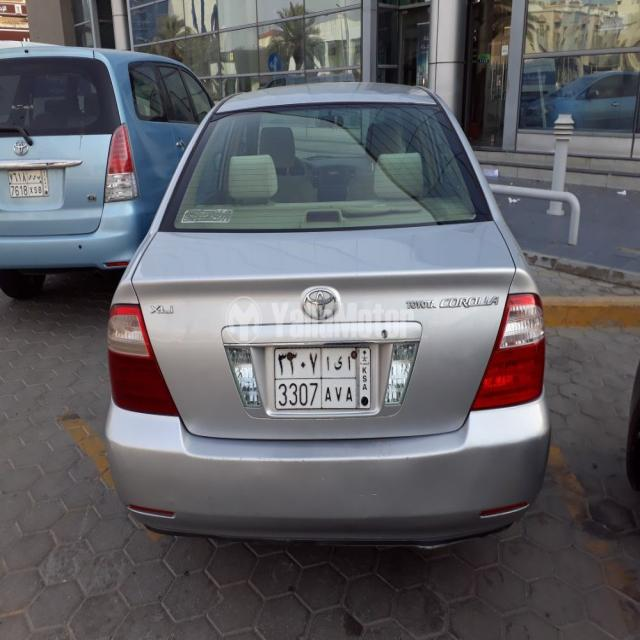license_plate: (271, 344, 374, 412)
